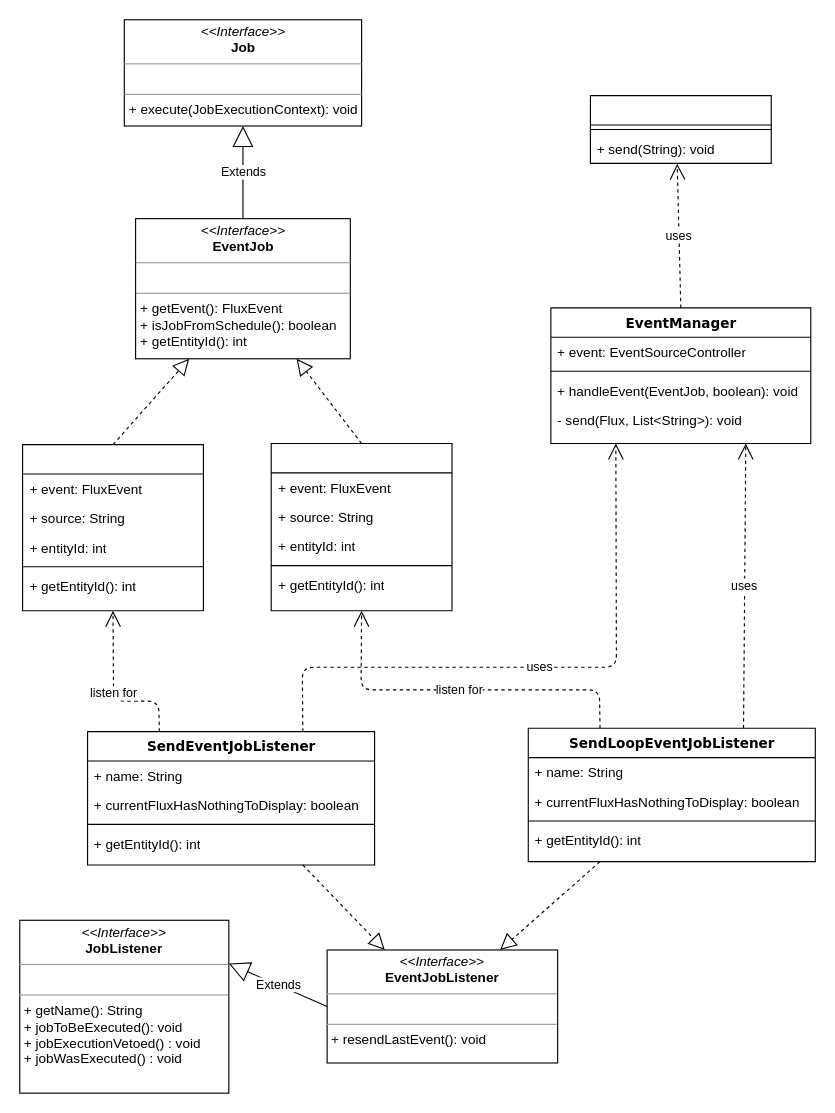
The diagram is 835 pixels wide and 1113 high, and some of its shapes have lost their labels. Each missing label, with the box of its shape:
EventSourceController: (589, 94, 771, 163)
SendEventJob: (21, 444, 203, 611)
SendLoopEventJob: (270, 442, 452, 611)
